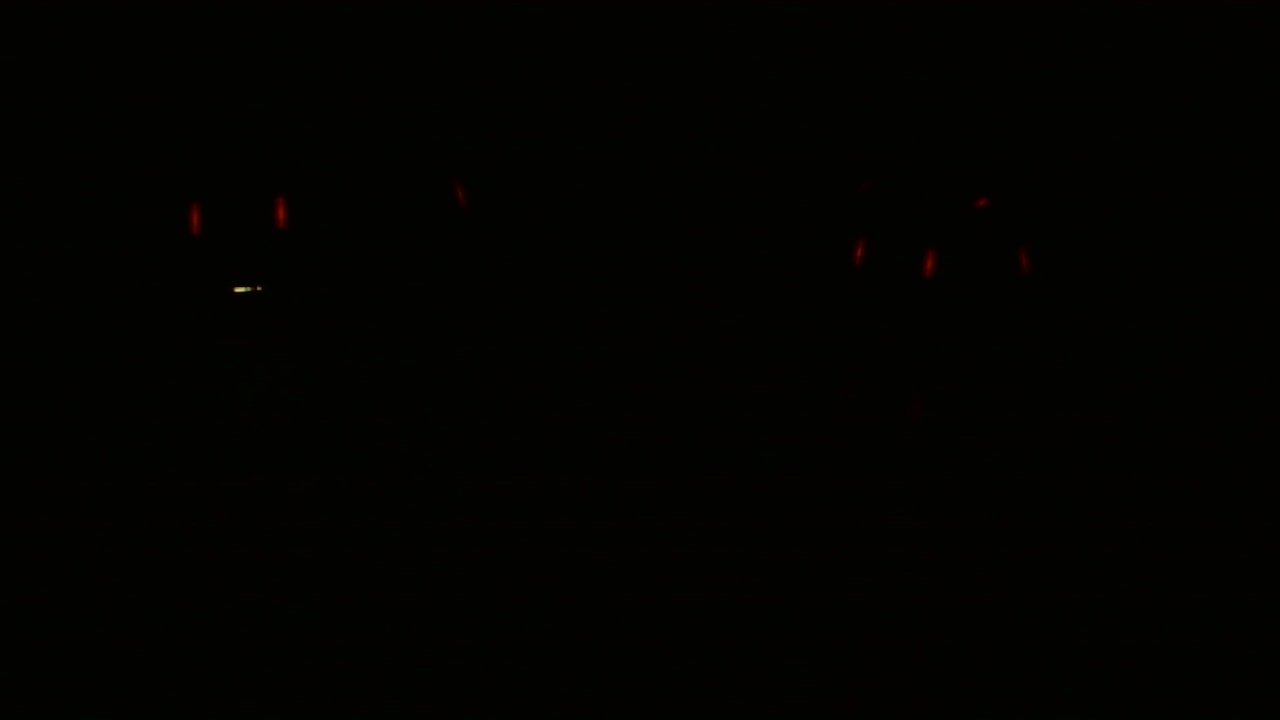pair1: (176, 188, 308, 251)
pair2: (846, 231, 947, 285)
